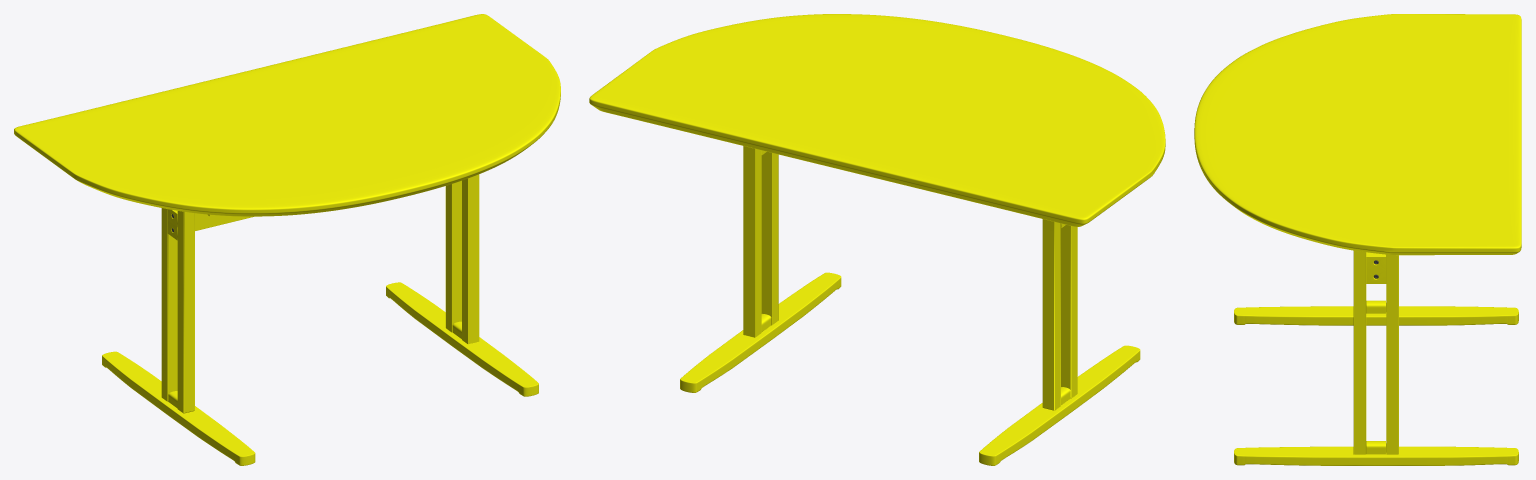
3 renders of one model, left to right at view 1: azimuth 30°, elevation 25°; view 2: azimuth 150°, elevation 25°; view 3: azimuth 270°, elevation 25°, orthographic. The views are drawn at different scales.
Parts seen in each view (by area): view 1: WOOD1, wood7, wood5; view 2: WOOD1, wood7, wood5; view 3: WOOD1, wood5, wood7, wood6, wood4.
Part boxes in pixels (x1=…): WOOD1: x1=14, y1=14, x2=560, y2=216; wood7: x1=161, y1=174, x2=479, y2=413; wood5: x1=102, y1=282, x2=538, y2=465; WOOD1: x1=589, y1=14, x2=1165, y2=226; wood7: x1=743, y1=146, x2=1077, y2=410; wood5: x1=680, y1=272, x2=1140, y2=465; WOOD1: x1=1194, y1=14, x2=1521, y2=255; wood5: x1=1234, y1=306, x2=1518, y2=465; wood7: x1=1353, y1=250, x2=1398, y2=454; wood6: x1=1366, y1=252, x2=1386, y2=283; wood4: x1=1366, y1=300, x2=1386, y2=454.
Size of the model in its own units: 1.35 by 0.7 by 0.7976.
3 materials, 2 textured.
